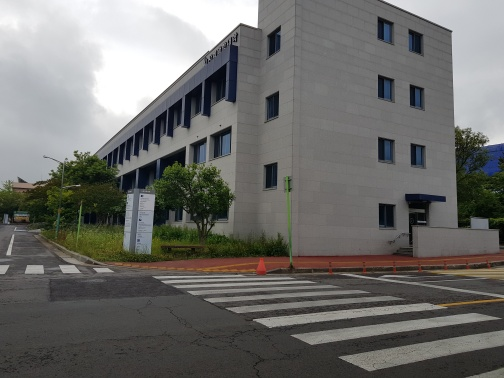College of Social Sciences: (86, 1, 491, 250), (119, 48, 238, 160), (377, 188, 487, 254)
